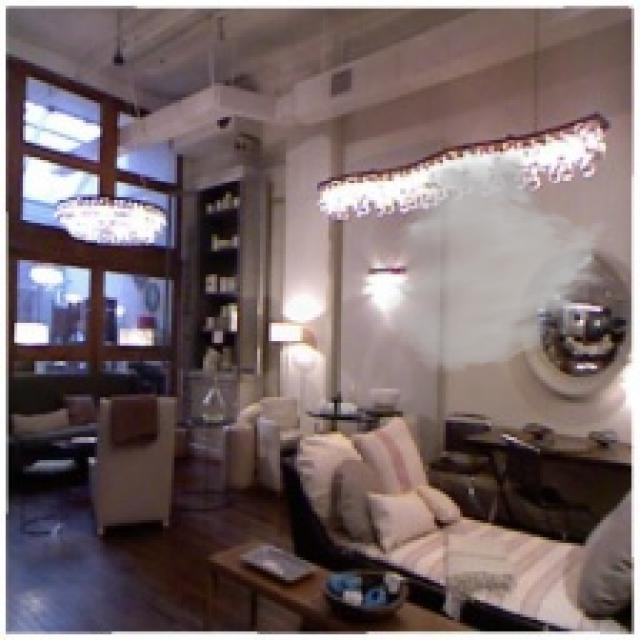smoke: (383, 149, 611, 374)
